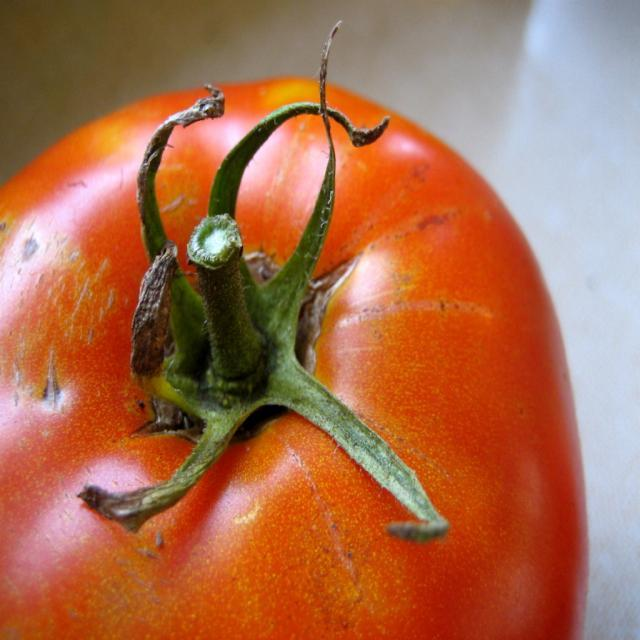Tomato: (41, 55, 594, 624)
